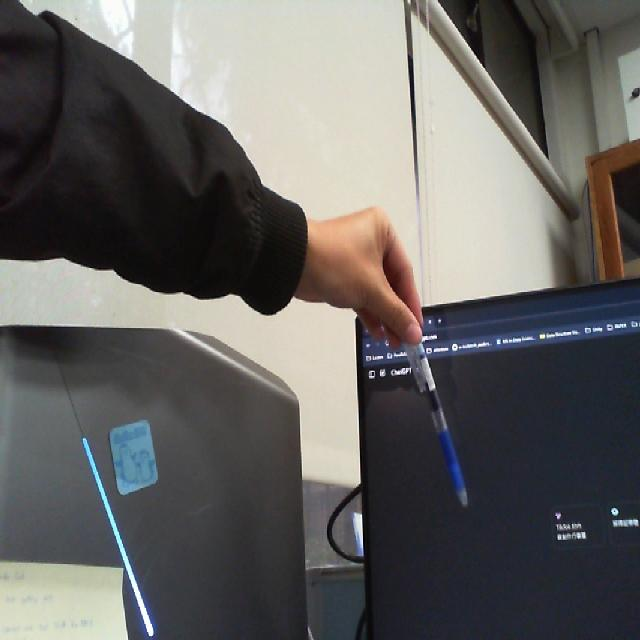Pen: (386, 272, 483, 528)
